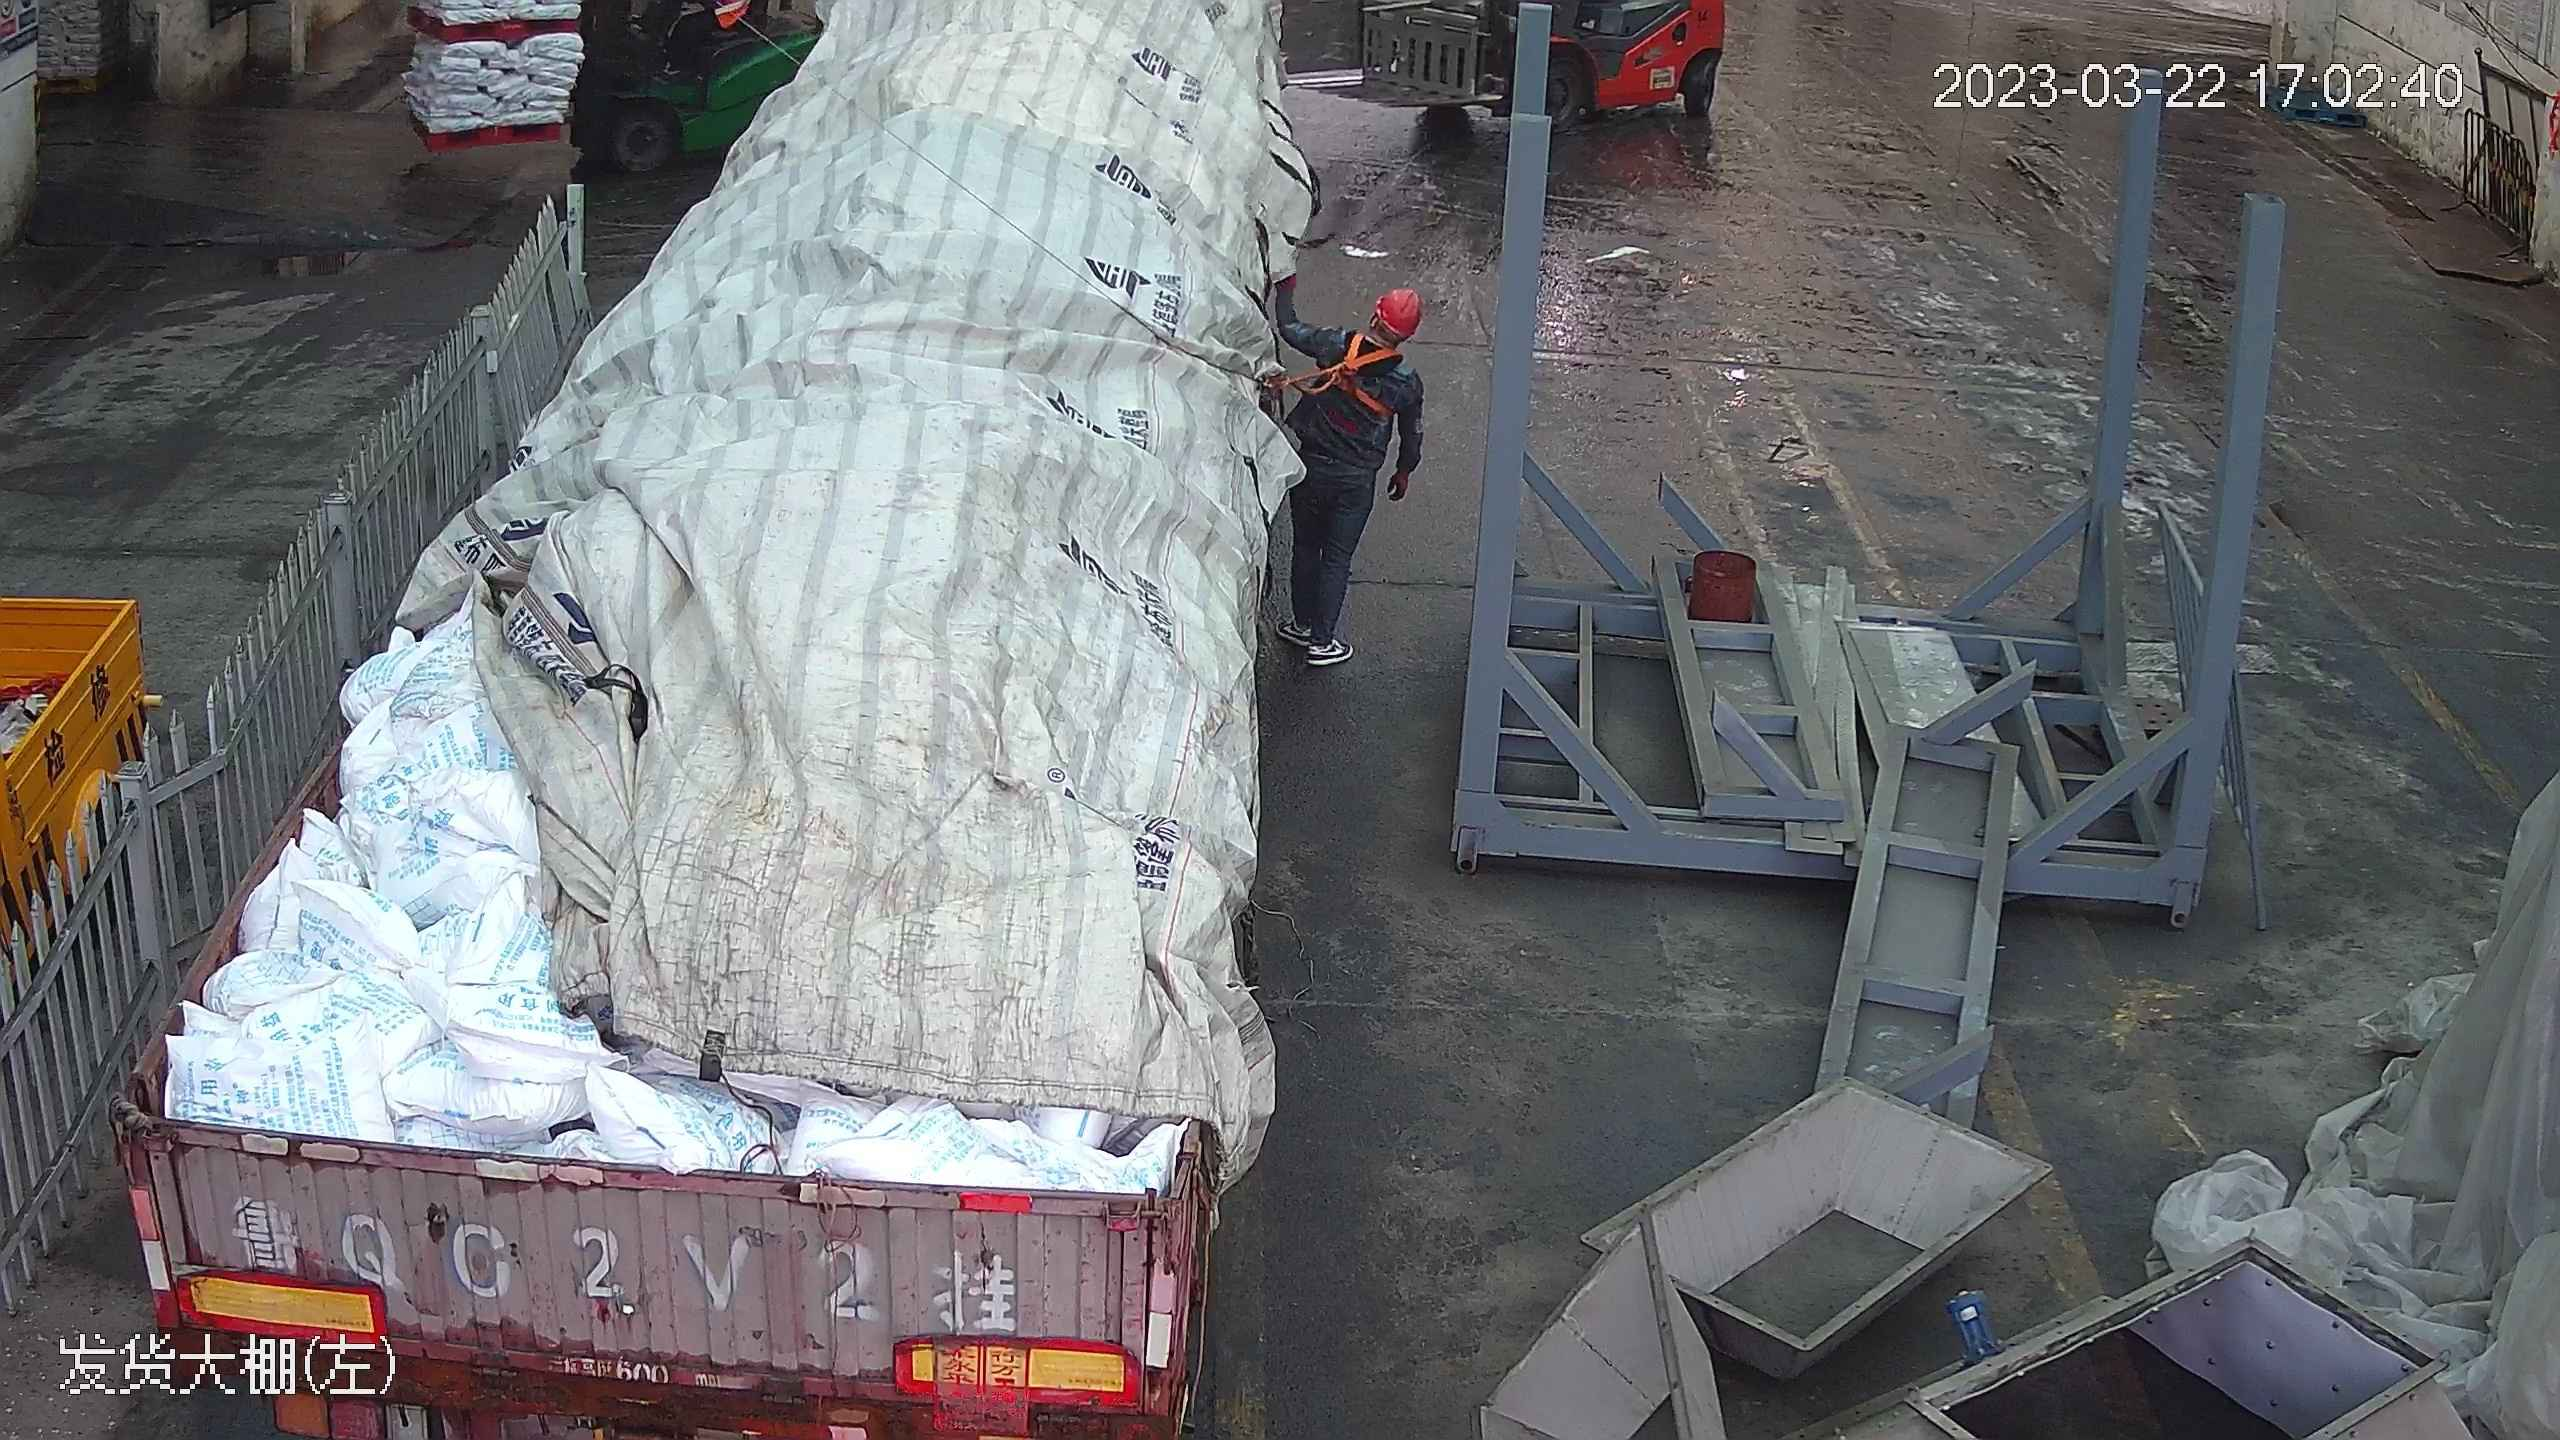belt: (1314, 328, 1395, 416)
head: (1326, 283, 1429, 390)
helmet: (1370, 282, 1427, 332)
people: (1252, 284, 1434, 664)
truck: (100, 13, 1324, 1433)
